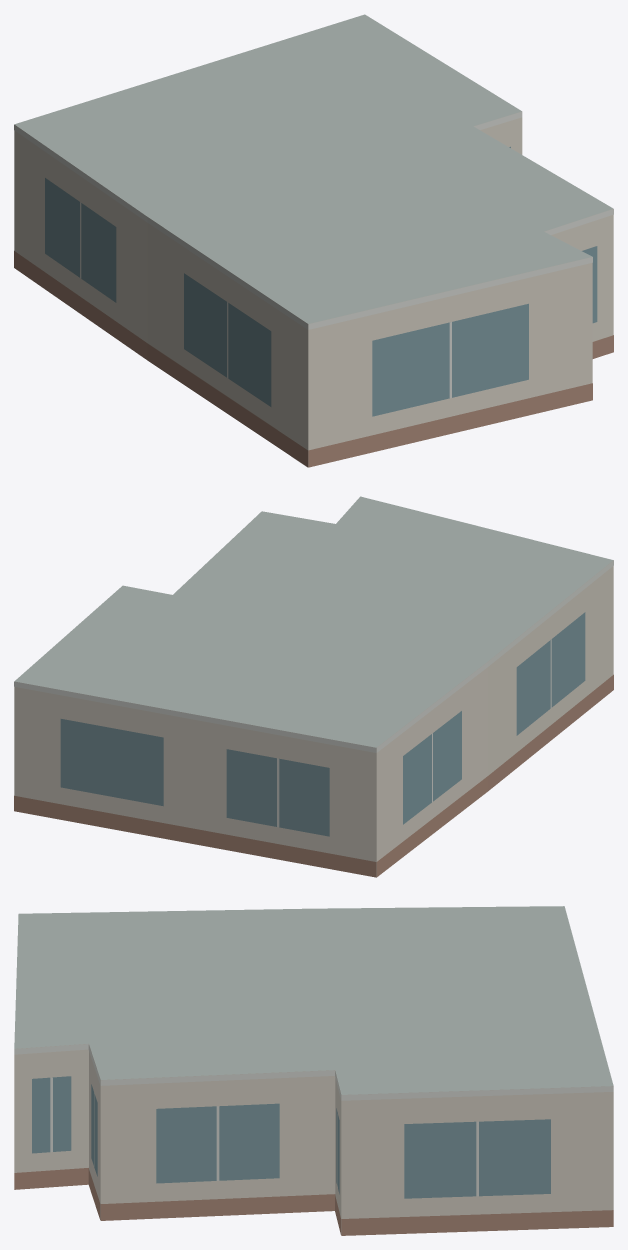
Rendered from survey-upis-32939199.glb.
3 views of the same model, one above another, from view 1: azimuth 30°, elevation 25°; view 2: azimuth 150°, elevation 25°; view 3: azimuth 270°, elevation 25° (orthographic). The views are drawn at different scales.
Parts seen in each view (by area): view 1: survey-upis-32939199.tmp; view 2: survey-upis-32939199.tmp; view 3: survey-upis-32939199.tmp.
Boxes of the visible parts, x1,y1,x2,y2 form: survey-upis-32939199.tmp: [14, 14, 613, 467]; survey-upis-32939199.tmp: [14, 496, 613, 877]; survey-upis-32939199.tmp: [14, 906, 613, 1235].
Size of the model in its own units: 8.79 by 3.05 by 11.78.
